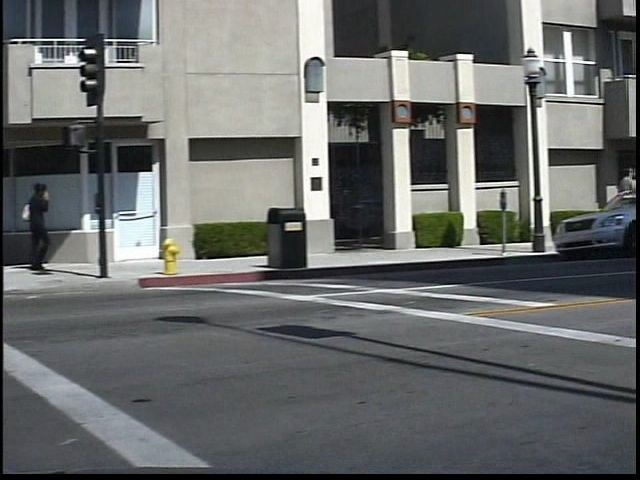person: (29, 177, 76, 277)
